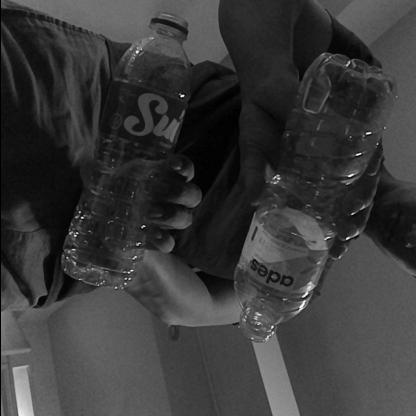plastic_bottles: (236, 48, 398, 344), (56, 13, 194, 289)
